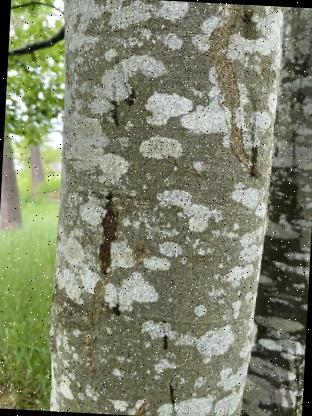tree: (36, 0, 293, 416)
